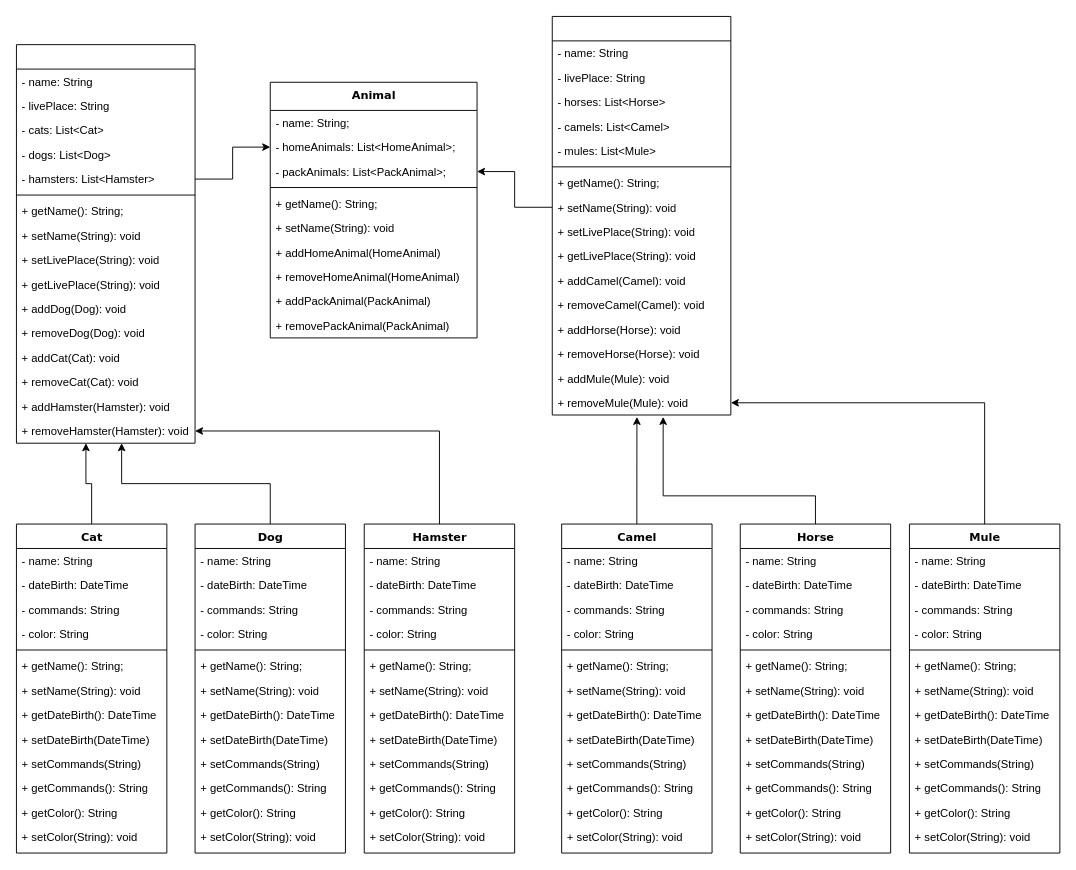
This 1076x870 diagram has some shape labels left out. The box of each missing label's shape, as (x1, y1, x2, y2) in pixels:
HomeAnimal: (16, 44, 195, 443)
PackAnimal: (551, 16, 731, 415)
